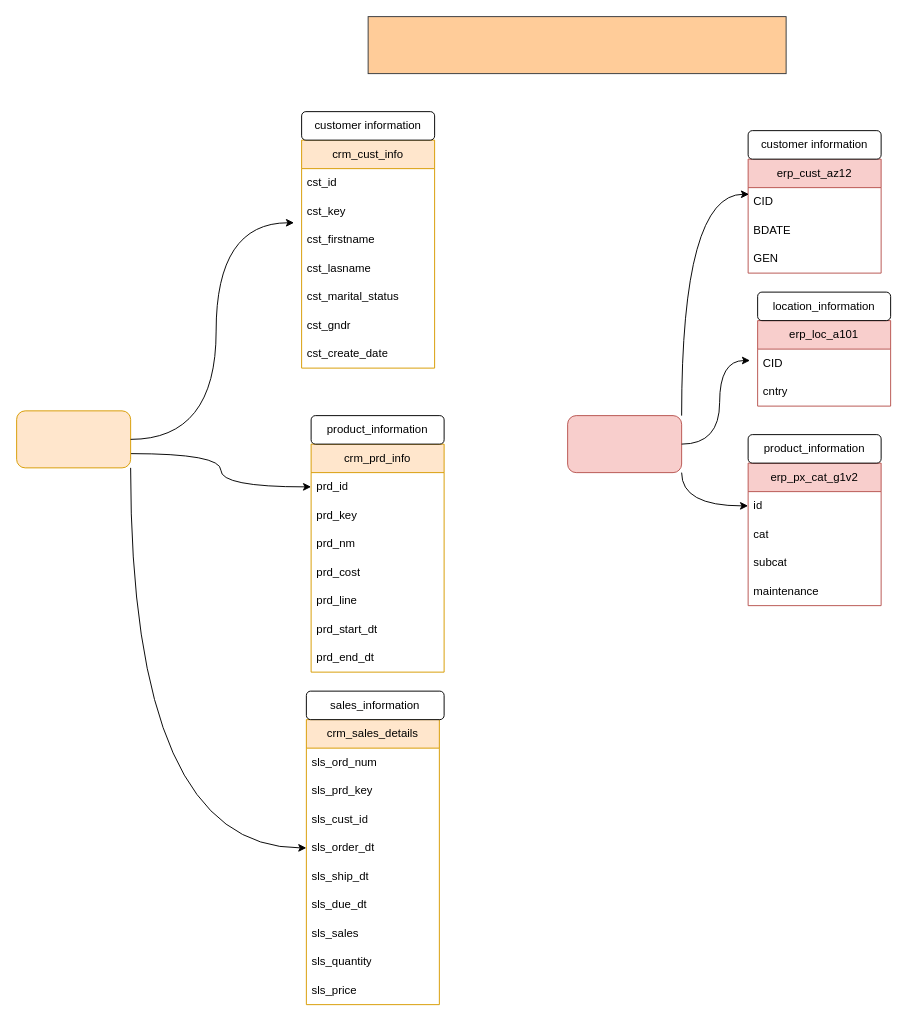
Image size: 907x1021. Some labels were removed from this diagram. Here are the shapes that lost their labels. From the top down, the centre of each, then its label:
At point 576,45: "BRONZE LAYER".
At point 73,439: "CRM".
At point 624,444: "ERP".
